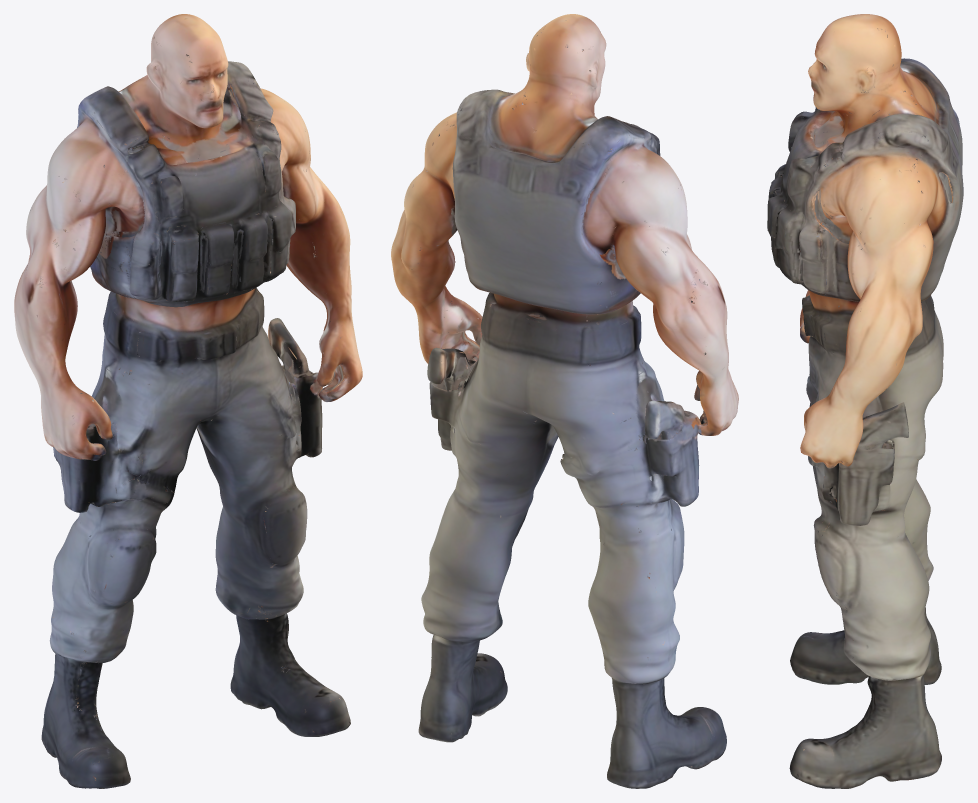
The model's file is military_combat_specialist_character_model.glb.
3 views of the same model, side by side, from view 1: azimuth 30°, elevation 25°; view 2: azimuth 150°, elevation 25°; view 3: azimuth 270°, elevation 25° (orthographic).
Visible parts, largest first — view 1: Mesh_0.002_Material_0.002_0 (×2); view 2: Mesh_0.002_Material_0.002_0 (×2); view 3: Mesh_0.002_Material_0.002_0 (×2).
Part boxes in pixels (x1=…): Mesh_0.002_Material_0.002_0 (×2): x1=14, y1=14, x2=362, y2=788; Mesh_0.002_Material_0.002_0 (×2): x1=391, y1=14, x2=738, y2=788; Mesh_0.002_Material_0.002_0 (×2): x1=767, y1=14, x2=963, y2=788.
Bounding box in the file's own units: 0.9401 × 2 × 0.5014.
Materials: 1 (1 with a texture image).
